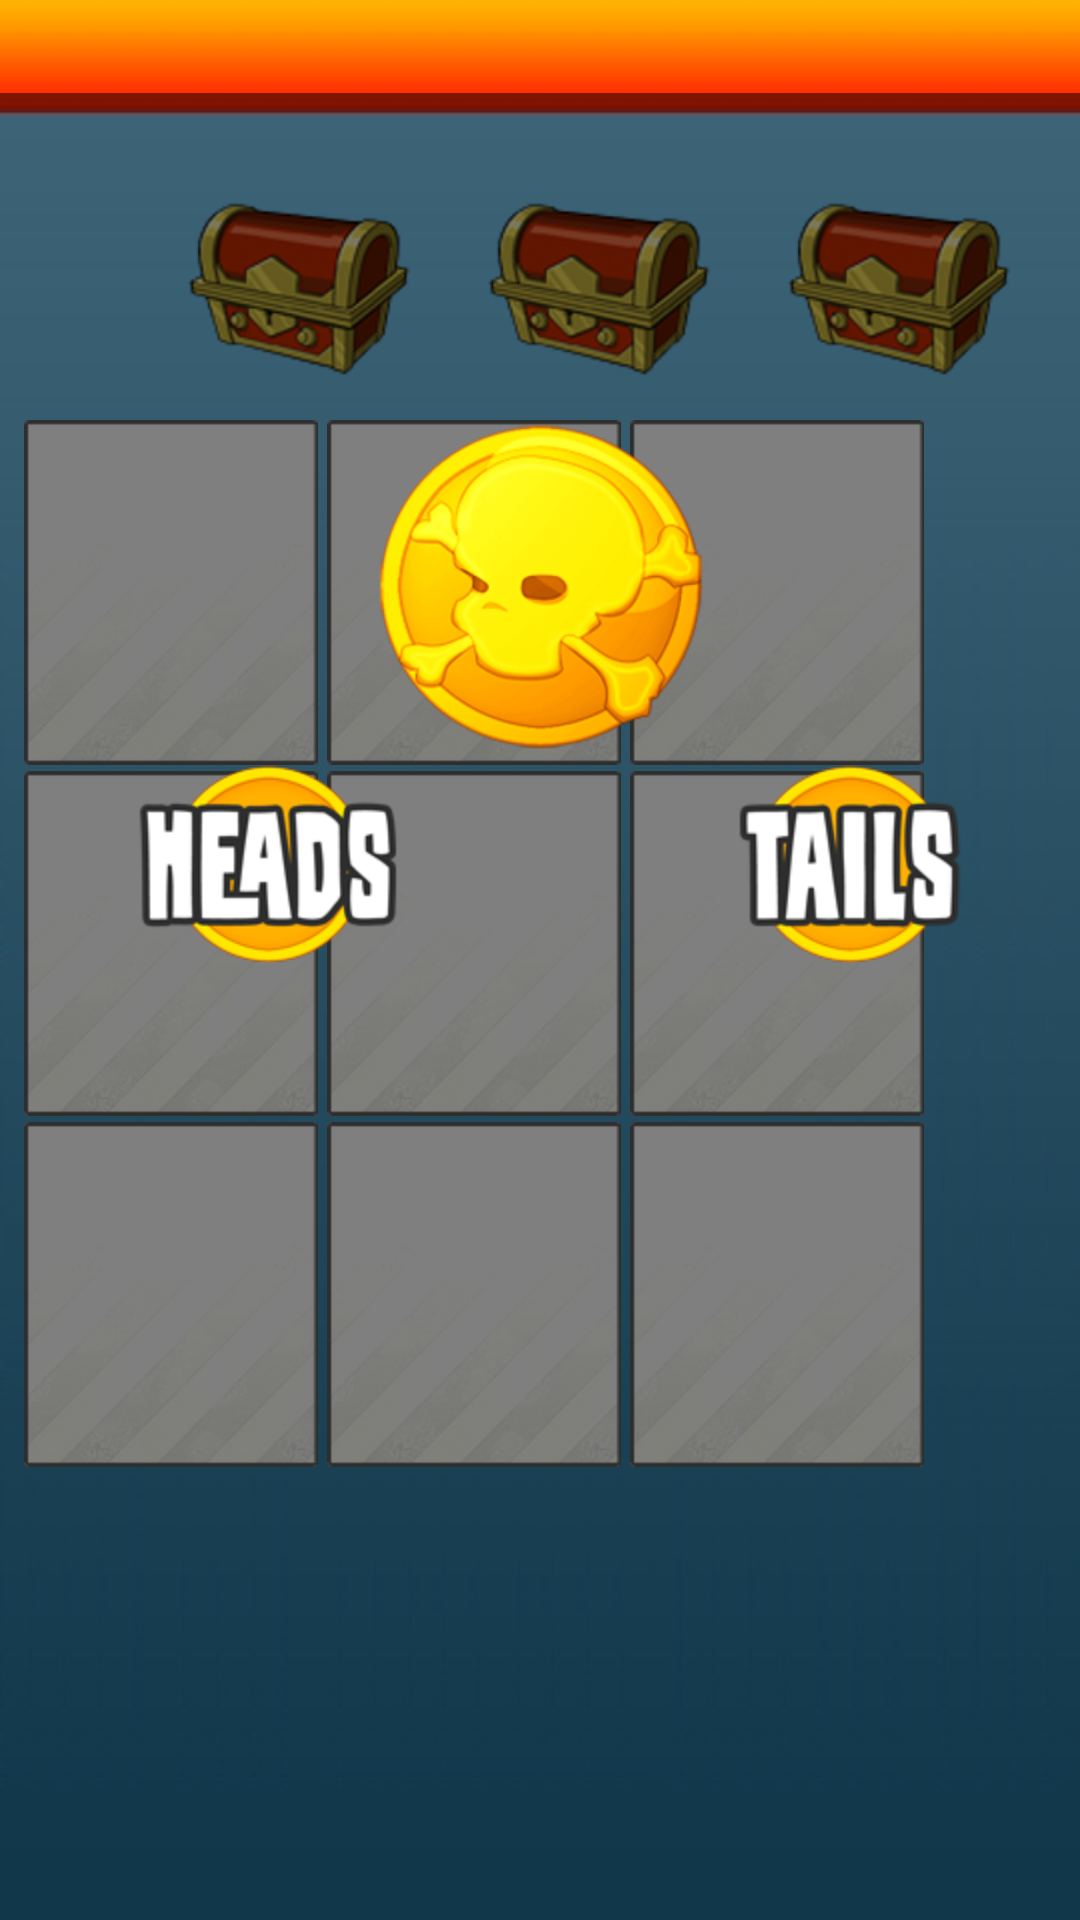

Point at icon controls on the screen. Image size 1080*1920, points as (x,y).
iconchest: (299,289), (599,289), (899,289)
